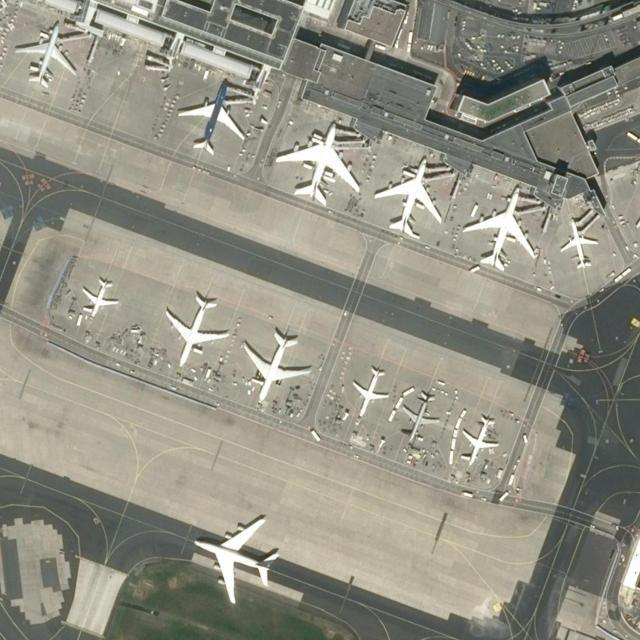Aircraft: (195, 515, 283, 603), (277, 125, 363, 207), (462, 187, 540, 273), (376, 159, 444, 239), (179, 83, 250, 155), (245, 330, 313, 404), (166, 295, 234, 366), (18, 22, 78, 87), (402, 391, 443, 441), (559, 220, 599, 269), (463, 416, 501, 467), (352, 368, 390, 418), (83, 276, 121, 318)
